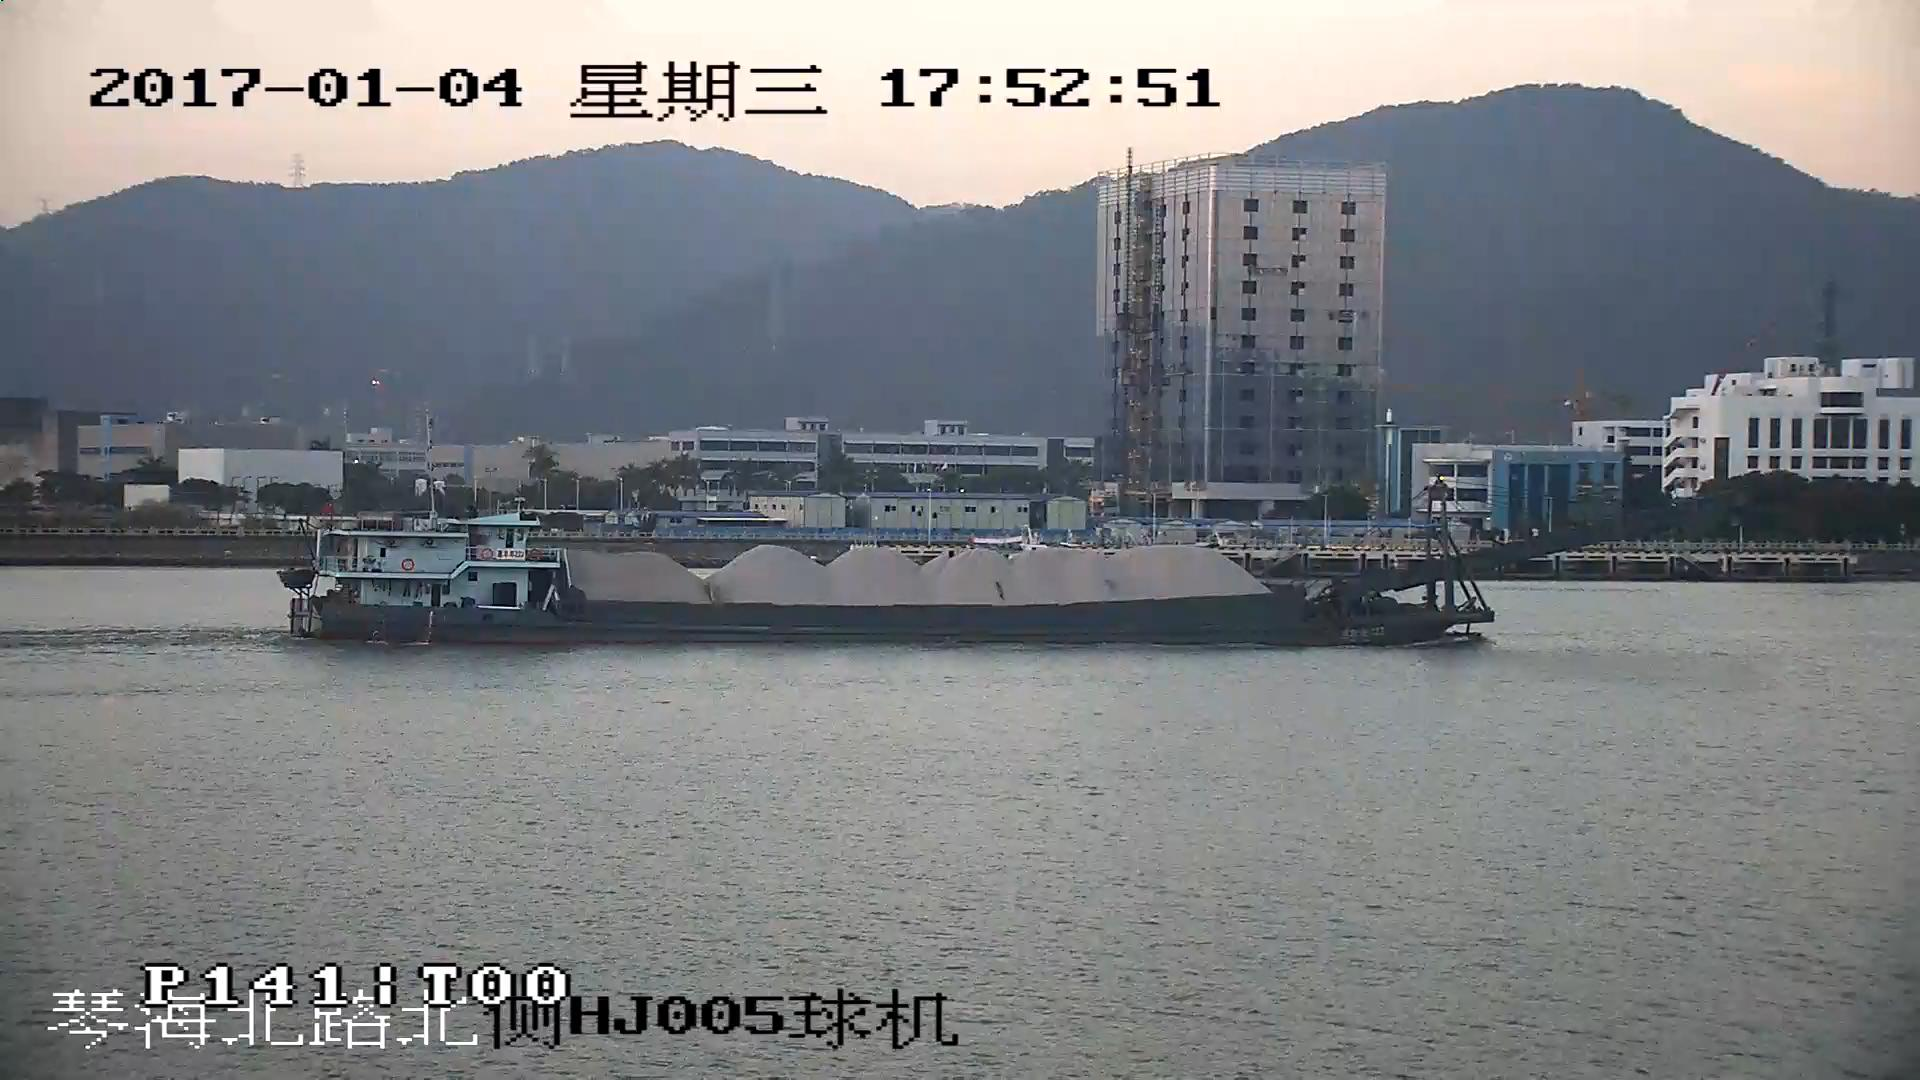ore carrier: (283, 492, 1747, 645)
